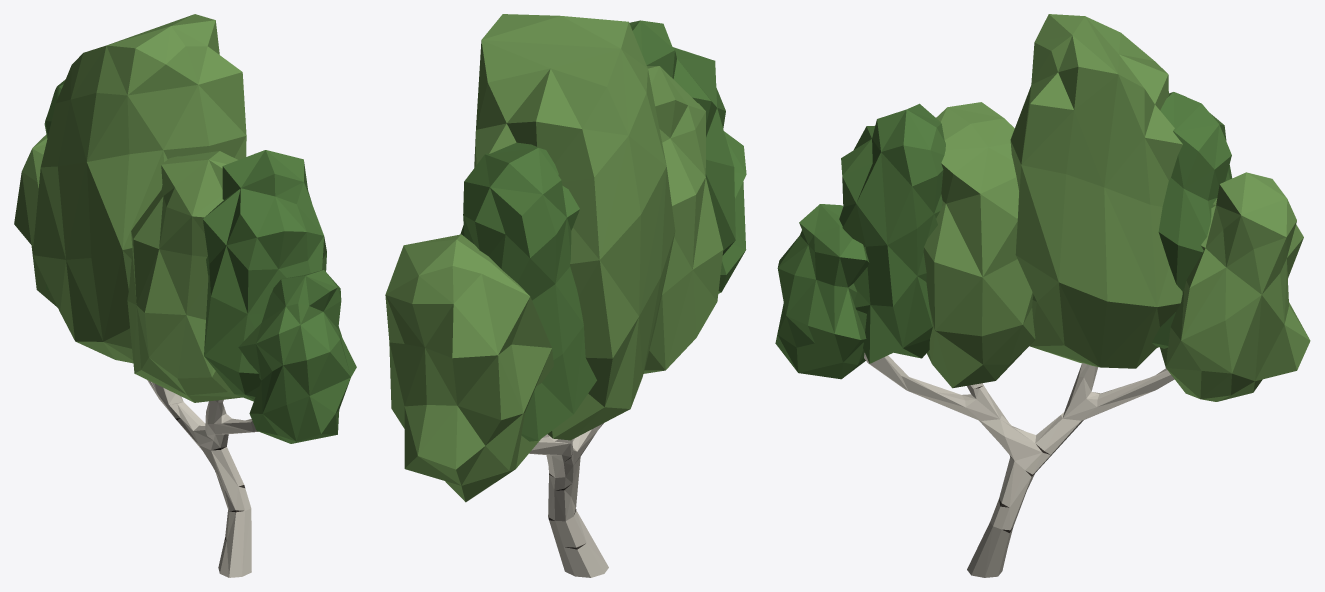
File: BirchTree_4.glb
3 renders of one model, left to right at view 1: azimuth 30°, elevation 25°; view 2: azimuth 150°, elevation 25°; view 3: azimuth 270°, elevation 25°, orthographic. The views are drawn at different scales.
Parts seen in each view (by area): view 1: BirchTree_4; view 2: BirchTree_4; view 3: BirchTree_4.
Boxes of the visible parts, left/top/right/bottom form: BirchTree_4: left=14, top=14, right=356, bottom=577; BirchTree_4: left=385, top=14, right=746, bottom=577; BirchTree_4: left=775, top=14, right=1310, bottom=577.
Bounding box in the file's own units: 1.15 × 3.56 × 3.29.
